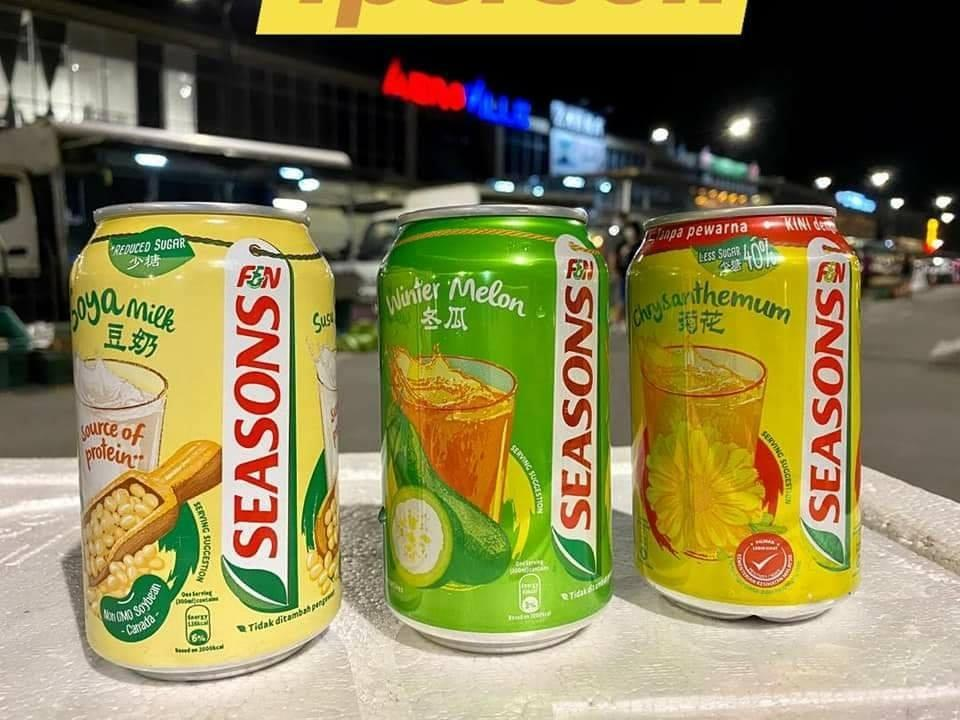metal: (64, 195, 349, 682), (371, 194, 623, 658), (629, 176, 873, 630)
